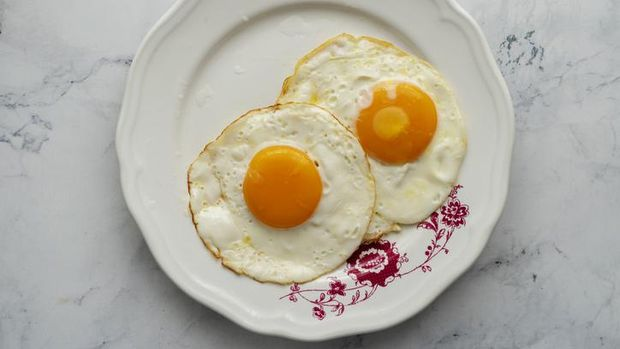Telur: (157, 118, 362, 288), (321, 50, 509, 225)
